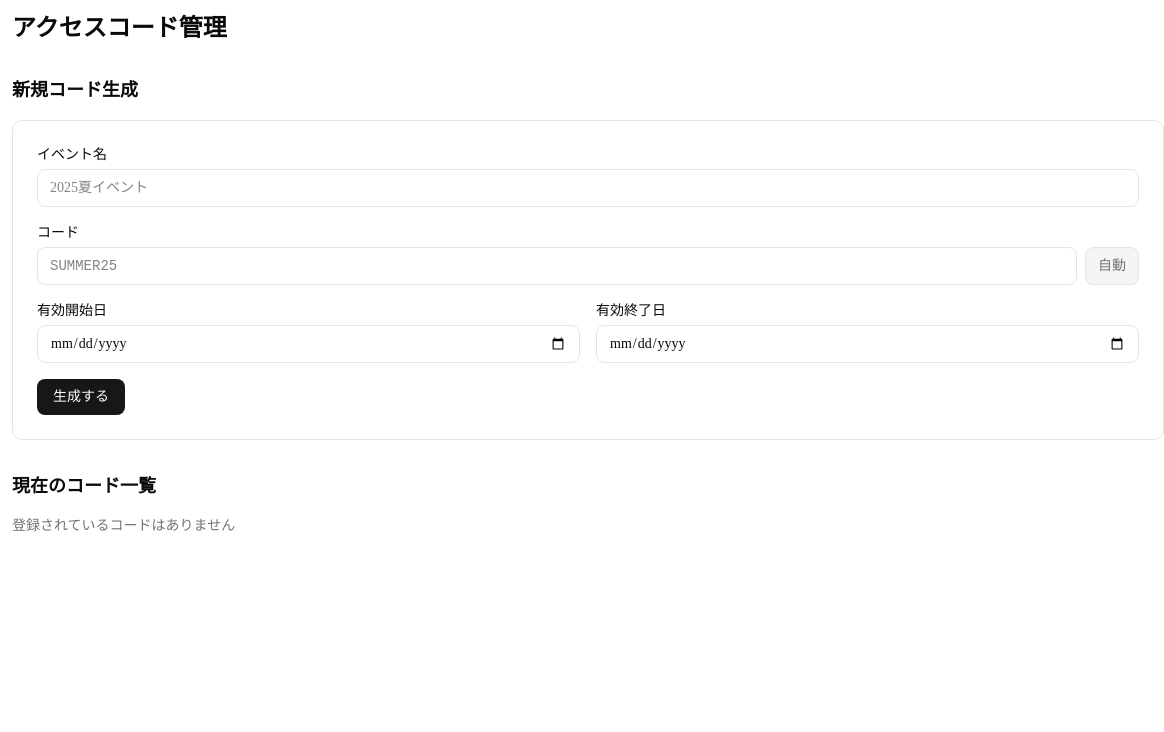
AccessCodeAdminPanel › 全項目が空の場合にバリデーションエラーを表示する
Click the button "生成する" at x=81, y=397, box [37,379,125,415]
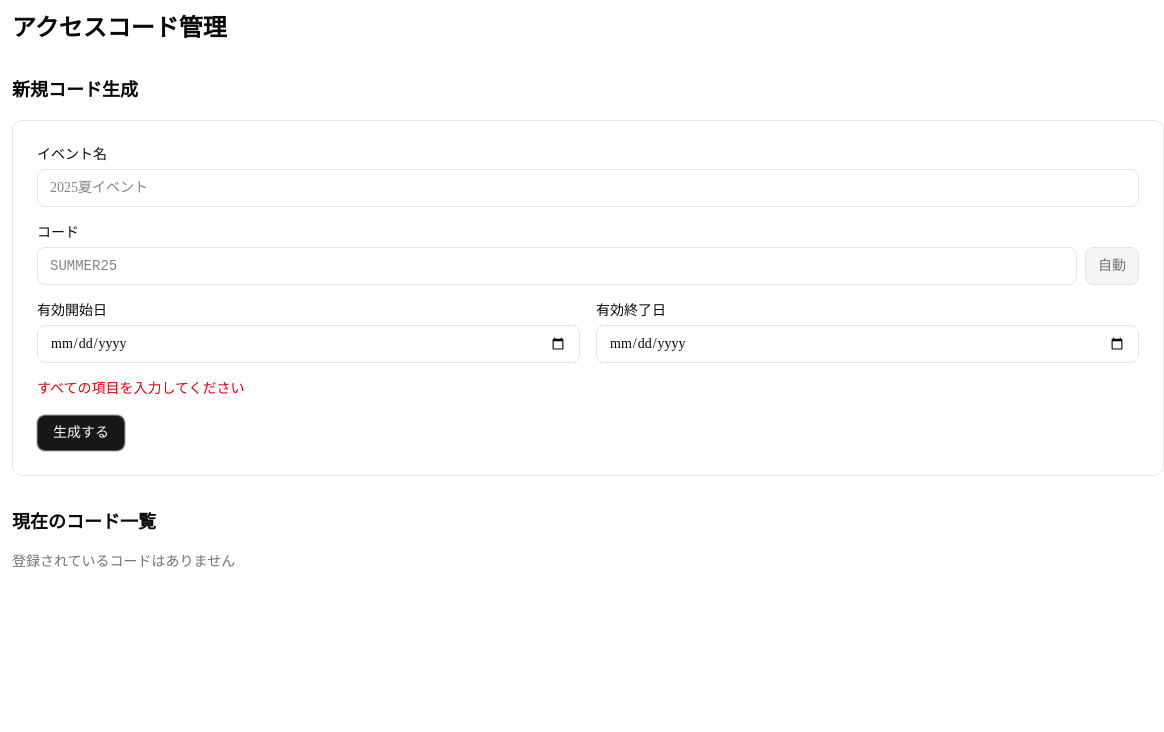
Expected: the message reads "すべての項目を入力してください", [37,381,245,396]
